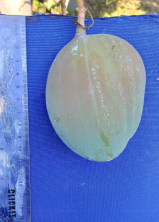Mango-sano: (46, 0, 145, 161)
